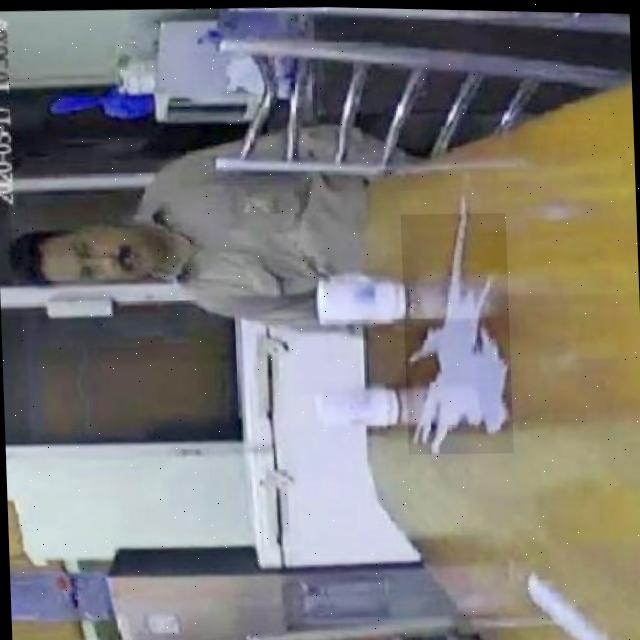spillage: (406, 211, 509, 452)
